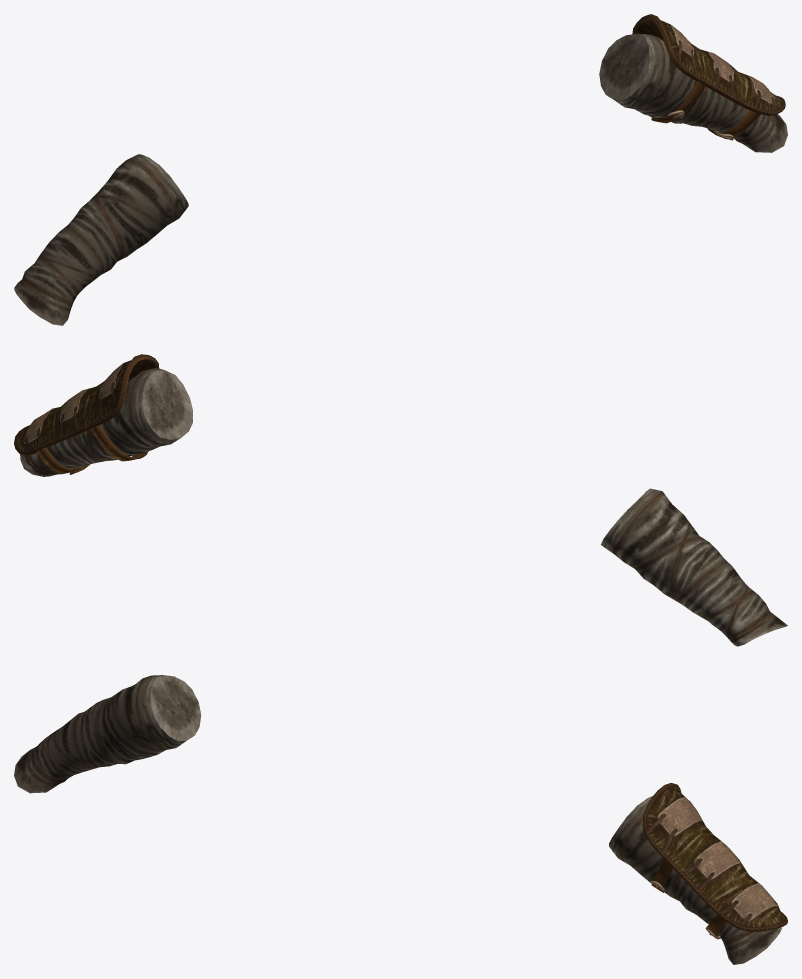
Rendered from dunland_caerdh_bracer_medium_c.fbx.
3 renders of one model, top to bottom at view 1: azimuth 30°, elevation 25°; view 2: azimuth 150°, elevation 25°; view 3: azimuth 330°, elevation 25°, orthographic.
Parts seen in each view (by area): view 1: dunland_caerdh_bracer_medium_c, dunland_caerdh_bracer_medium_c.metal; view 2: dunland_caerdh_bracer_medium_c, dunland_caerdh_bracer_medium_c.metal; view 3: dunland_caerdh_bracer_medium_c, dunland_caerdh_bracer_medium_c.metal.
Part boxes in pixels (left/top/right/bottom): dunland_caerdh_bracer_medium_c: left=14, top=33, right=787, bottom=325; dunland_caerdh_bracer_medium_c.metal: left=632, top=14, right=785, bottom=140; dunland_caerdh_bracer_medium_c: left=20, top=367, right=787, bottom=646; dunland_caerdh_bracer_medium_c.metal: left=14, top=354, right=158, bottom=474; dunland_caerdh_bracer_medium_c: left=14, top=675, right=781, bottom=964; dunland_caerdh_bracer_medium_c.metal: left=642, top=783, right=787, bottom=939.
Size of the model in its own units: 1.44 by 0.1504 by 0.2559.
1 material, 1 textured.
